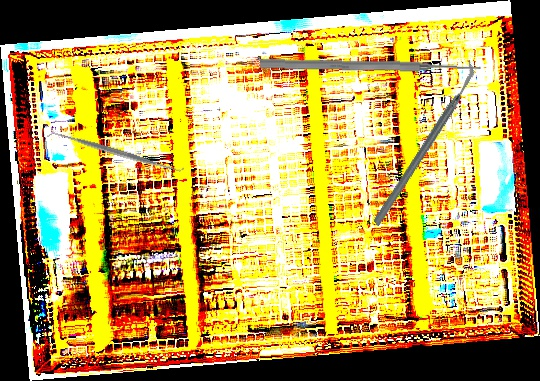Chopper: (329, 59, 519, 227)
Pusher: (259, 57, 483, 75)
Spatula Surgical: (45, 123, 186, 181)
